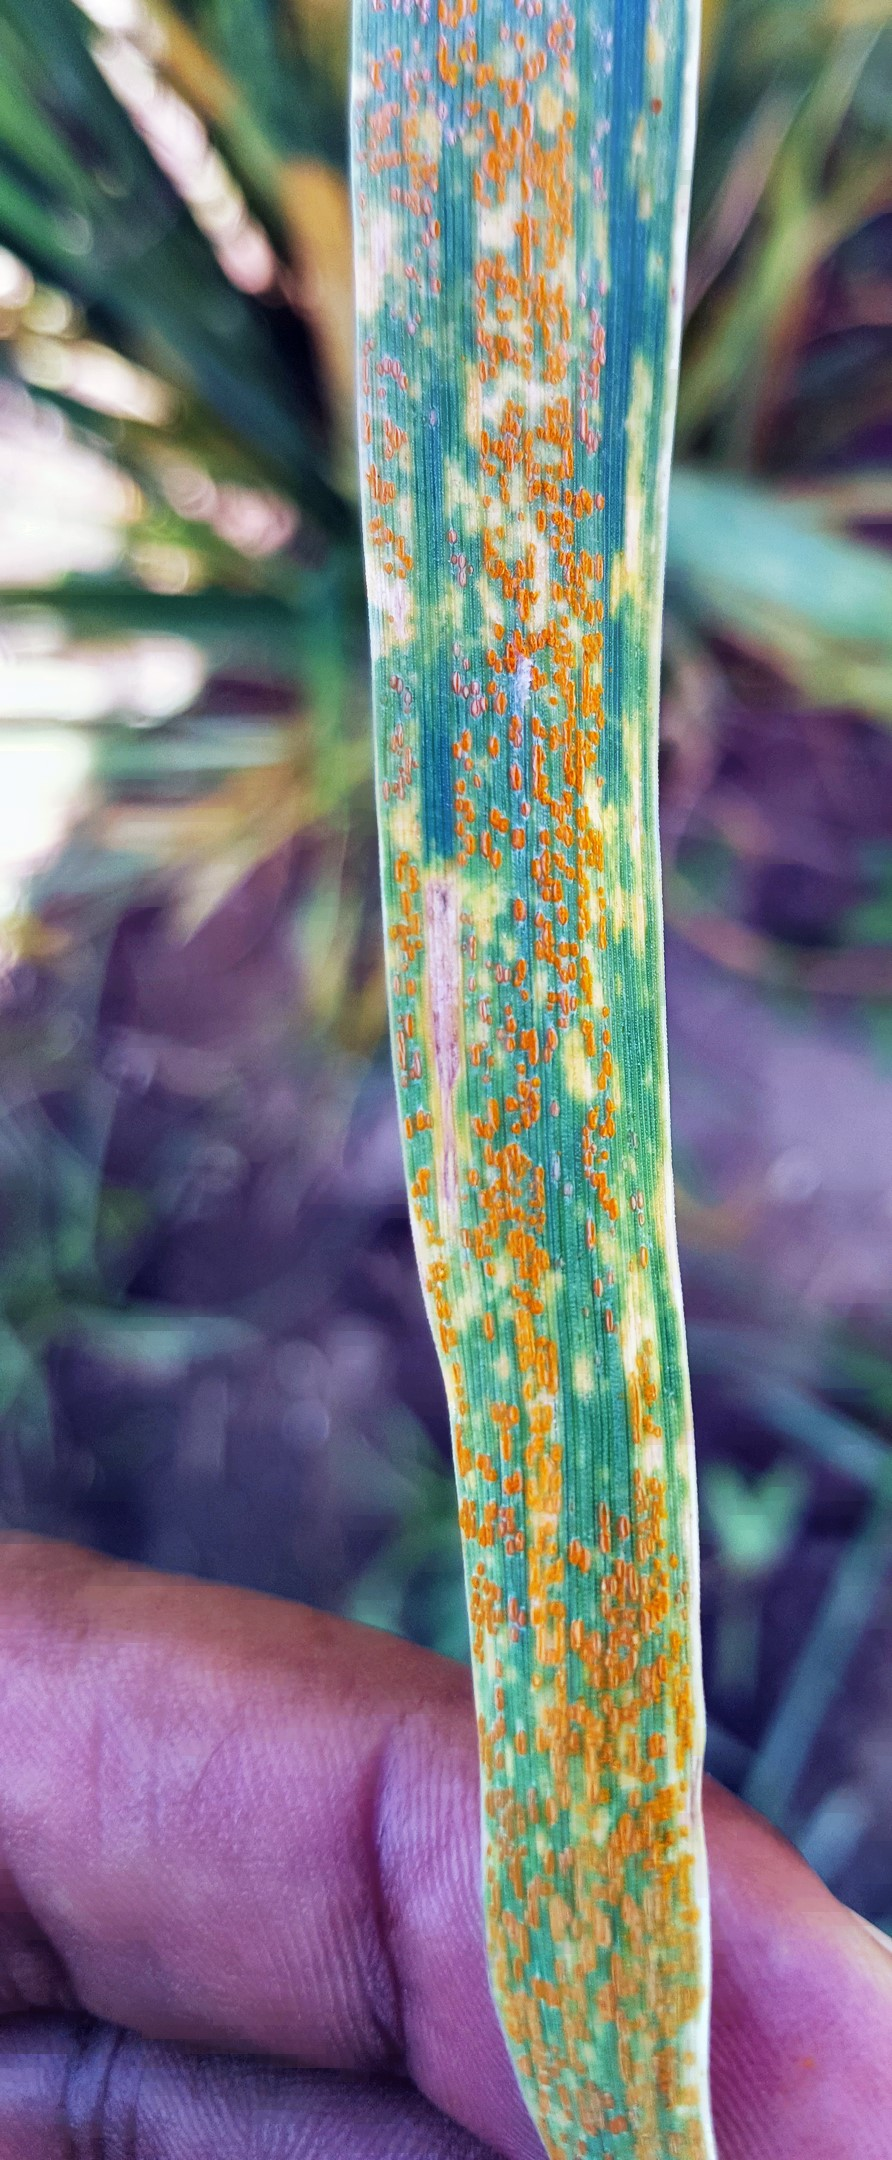Leaf Rust: (326, 45, 749, 2110)
